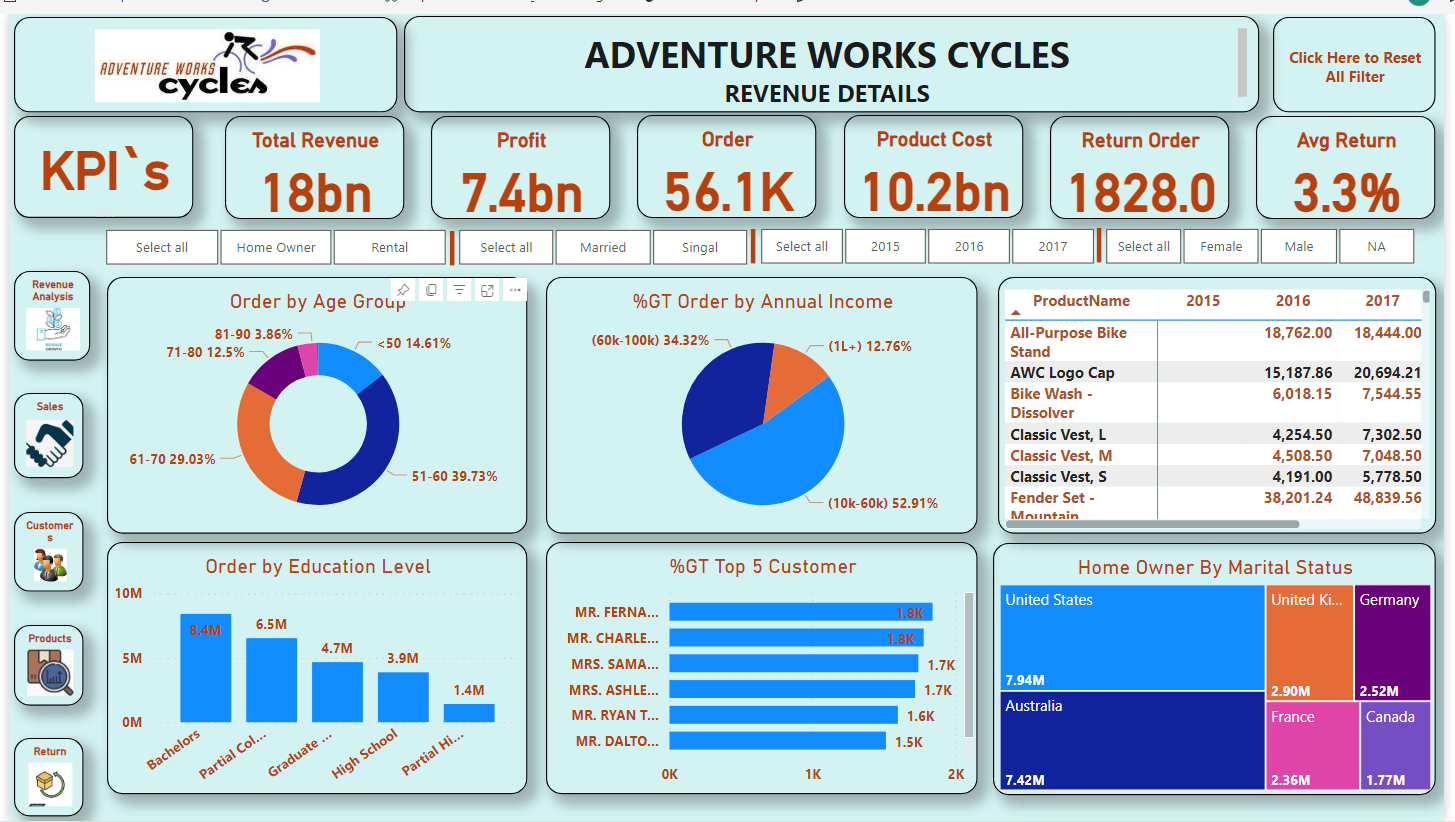

Layout of this report page (visuals, bound fields, positions):
{"tool":"powerbi","page":{"name":"Revenue","canvas":[1280,720],"ordinal":0},"visuals":[{"type":"card","title":"Total Revenue","fields":{"Values":["All Measures.Product Price"]},"box":[192.5,90.6,160,92],"z":0},{"type":"card","title":"Order","fields":{"Values":["All Measures.Total Order"]},"box":[560.7,90.4,159.8,92.2],"z":1000},{"type":"card","title":"Return Order","fields":{"Values":["All Measures.Return Order"]},"box":[928.5,90.6,160,92],"z":2000},{"type":"card","title":"Avg Return","fields":{"Values":["All Measures.Avg Return"]},"box":[1112.8,91.1,160,92],"z":3000},{"type":"card","title":"Profit","fields":{"Values":["All Measures.Profit"]},"box":[376.6,90.6,160,92],"z":4000},{"type":"card","title":"Product Cost","fields":{"Values":["All Measures.Product Cost"]},"box":[744.6,90.4,159.8,92.2],"z":5000},{"type":"card","title":"KPI`s","fields":{"Values":["All Measures.Total Order"]},"box":[4.5,90.6,160.3,91.5],"z":6000},{"type":"textbox","box":[352.8,1.9,762.9,85.5],"z":7000},{"type":"image","title":"Products","box":[4.4,544.8,62.3,72],"z":8000},{"type":"image","title":"Revenue Analysis","box":[4.4,229,67.6,79.9],"z":9000},{"type":"image","title":"Return","box":[4.4,646.2,62.3,70.2],"z":10000},{"type":"image","title":"Sales","box":[4.4,338.3,62.3,76.4],"z":11000},{"type":"image","title":"Customers","box":[4.4,444.2,62.3,71.1],"z":12000},{"type":"donutChart","title":"Order by Age Group","fields":{"Category":["Age Group.Age Group"],"Y":["All Measures.Total Revenue"]},"box":[87.8,234.4,374.9,229.2],"z":13000},{"type":"treemap","title":"Home Owner By Marital Status","fields":{"Group":["D_Territe.Country"],"Values":["All Measures.Total Revenue"]},"box":[877.8,472.4,395,224.7],"z":14000},{"type":"pieChart","title":"%GT Order by Annual Income","fields":{"Y":["All Measures.Total Revenue"],"Category":["D_Customer.Salary Status"]},"box":[479.4,234.4,385.5,229.2],"z":15000},{"type":"barChart","title":"%GT Top 5 Customer","fields":{"Category":["D_Customer.Full Name"],"Y":["All Measures.Total Revenue"]},"box":[479.4,471.5,385.5,224.8],"z":16000},{"type":"columnChart","title":"Order by Education Level","fields":{"Category":["D_Customer.EducationLevel"],"Y":["All Measures.Total Revenue"]},"box":[87.8,471.5,374.9,224.8],"z":17000},{"type":"pivotTable","fields":{"Values":["All Measures.Total Revenue"],"Rows":["D_Product.ProductName"],"Columns":["D_Calender.Year"]},"box":[882,234.9,390.7,229.2],"z":18000},{"type":"slicer","fields":{"Values":["D_Customer.MaritalStatus"]},"box":[375.5,185.3,307.1,44.6],"z":19000},{"type":"slicer","fields":{"Values":["D_Customer.HomeOwner"]},"box":[60.6,185.3,353,44.8],"z":20000},{"type":"slicer","fields":{"Values":["D_Customer.Gender"]},"box":[953.1,184.3,325,44.6],"z":21000},{"type":"slicer","fields":{"Values":["D_Calender.Year"]},"box":[645,184.3,346.7,44.6],"z":22000},{"type":"actionButton","box":[1128.1,2.3,144.6,85.2],"z":23000},{"type":"image","box":[4.5,2.3,341.5,85.2],"z":24000},{"type":"shape","box":[376.7,193.2,37.8,30.7],"z":25000},{"type":"shape","box":[954.1,191.2,37.6,30.7],"z":26000},{"type":"shape","box":[645,192.2,37.6,30.7],"z":27000}]}

Visuals, with their boxes in screenshot pixels (x1, y1, x2, y2), scaled from the page's 1280x720 canvas onto the 1455x822 screenshot:
"Total Revenue" card: bbox(219, 103, 401, 208)
"Order" card: bbox(637, 103, 819, 208)
"Return Order" card: bbox(1055, 103, 1237, 208)
"Avg Return" card: bbox(1265, 104, 1447, 209)
"Profit" card: bbox(428, 103, 610, 208)
"Product Cost" card: bbox(846, 103, 1028, 208)
"KPI`s" card: bbox(5, 103, 187, 208)
textbox: bbox(401, 2, 1268, 100)
"Products" image: bbox(5, 622, 76, 704)
"Revenue Analysis" image: bbox(5, 261, 82, 353)
"Return" image: bbox(5, 738, 76, 818)
"Sales" image: bbox(5, 386, 76, 473)
"Customers" image: bbox(5, 507, 76, 588)
"Order by Age Group" donutChart: bbox(100, 268, 526, 529)
"Home Owner By Marital Status" treemap: bbox(998, 539, 1447, 796)
"%GT Order by Annual Income" pieChart: bbox(545, 268, 983, 529)
"%GT Top 5 Customer" barChart: bbox(545, 538, 983, 795)
"Order by Education Level" columnChart: bbox(100, 538, 526, 795)
pivotTable - All Measures.Total Revenue x D_Product.ProductName: bbox(1003, 268, 1447, 530)
slicer - D_Customer.MaritalStatus: bbox(427, 212, 776, 262)
slicer - D_Customer.HomeOwner: bbox(69, 212, 470, 263)
slicer - D_Customer.Gender: bbox(1083, 210, 1453, 261)
slicer - D_Calender.Year: bbox(733, 210, 1127, 261)
actionButton: bbox(1282, 3, 1447, 100)
image: bbox(5, 3, 393, 100)
shape: bbox(428, 221, 471, 256)
shape: bbox(1085, 218, 1127, 253)
shape: bbox(733, 219, 776, 254)
